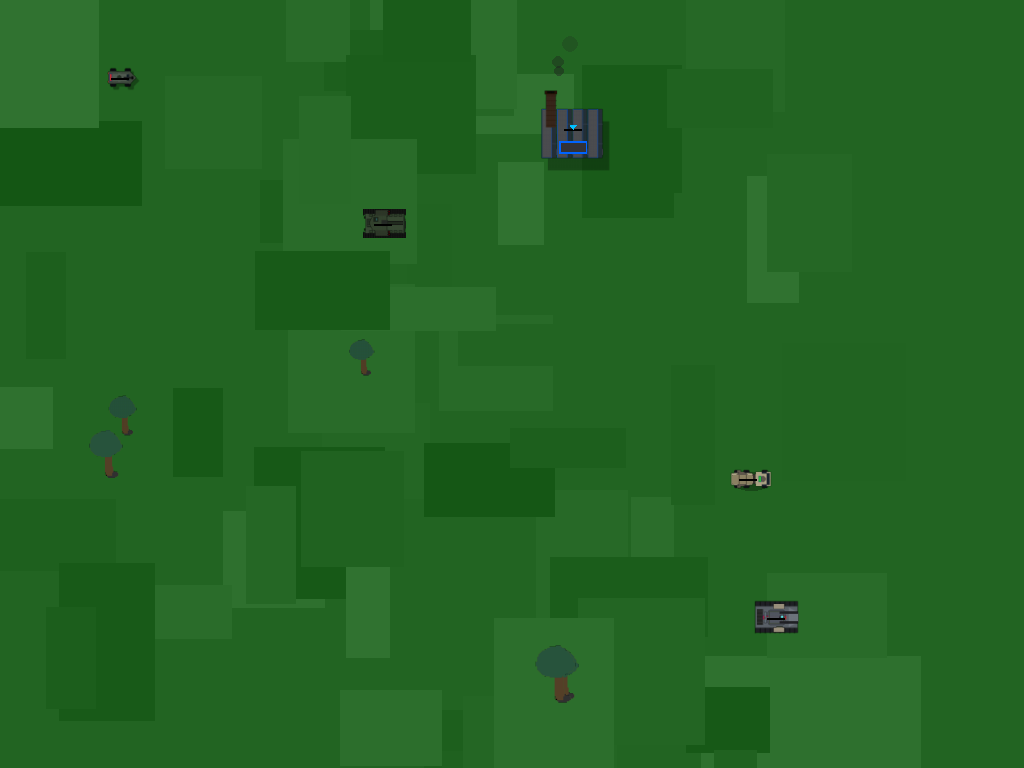AntiAirTurret: (529, 85, 615, 171)
ArmoredCar: (727, 457, 769, 499)
M1A2_rus: (754, 595, 796, 637)
M1A2_usa: (104, 61, 134, 91)
Mi24: (364, 203, 403, 242)
